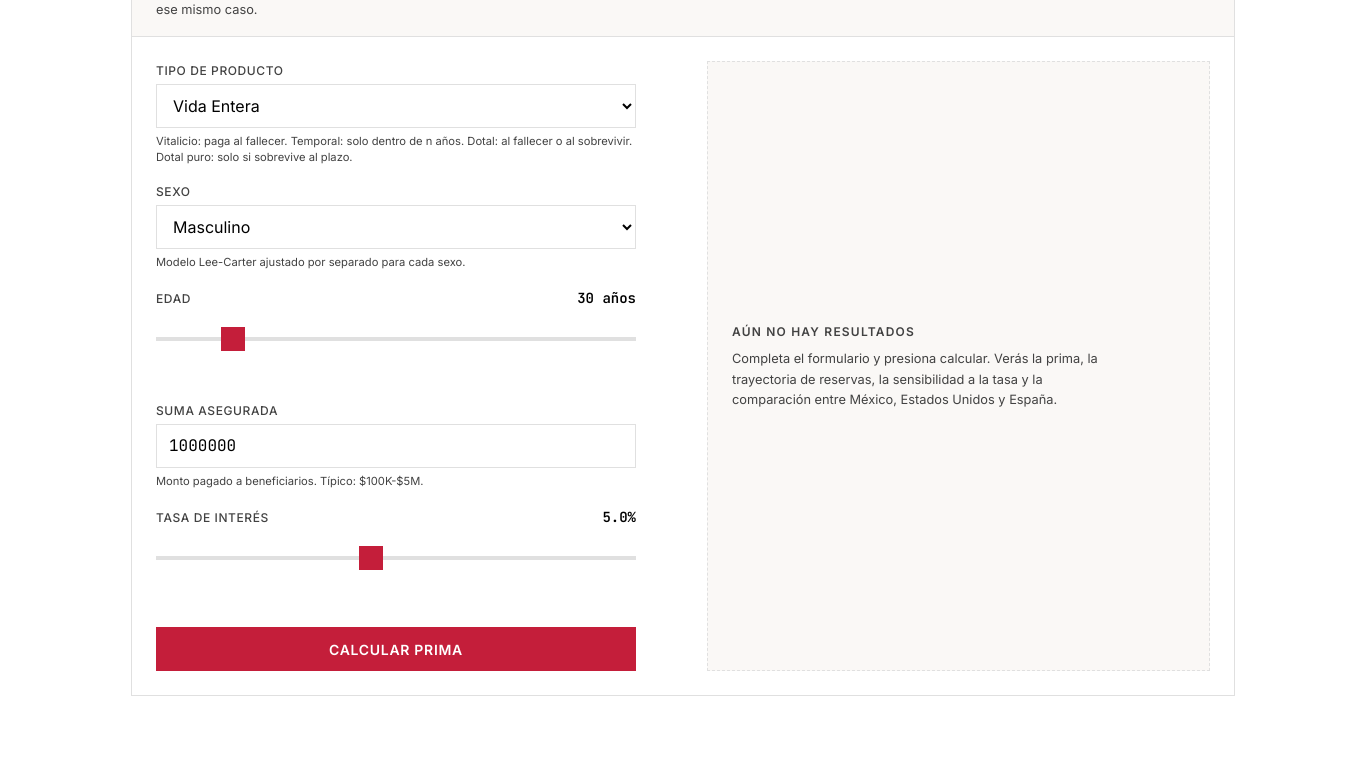
Test: Tarificacion › renders cross-country names in the active UI language, in es and en
(page scrolled)
Click the button "CALCULAR PRIMA" at (396, 650), box [156,628,636,672]
(page scrolled)
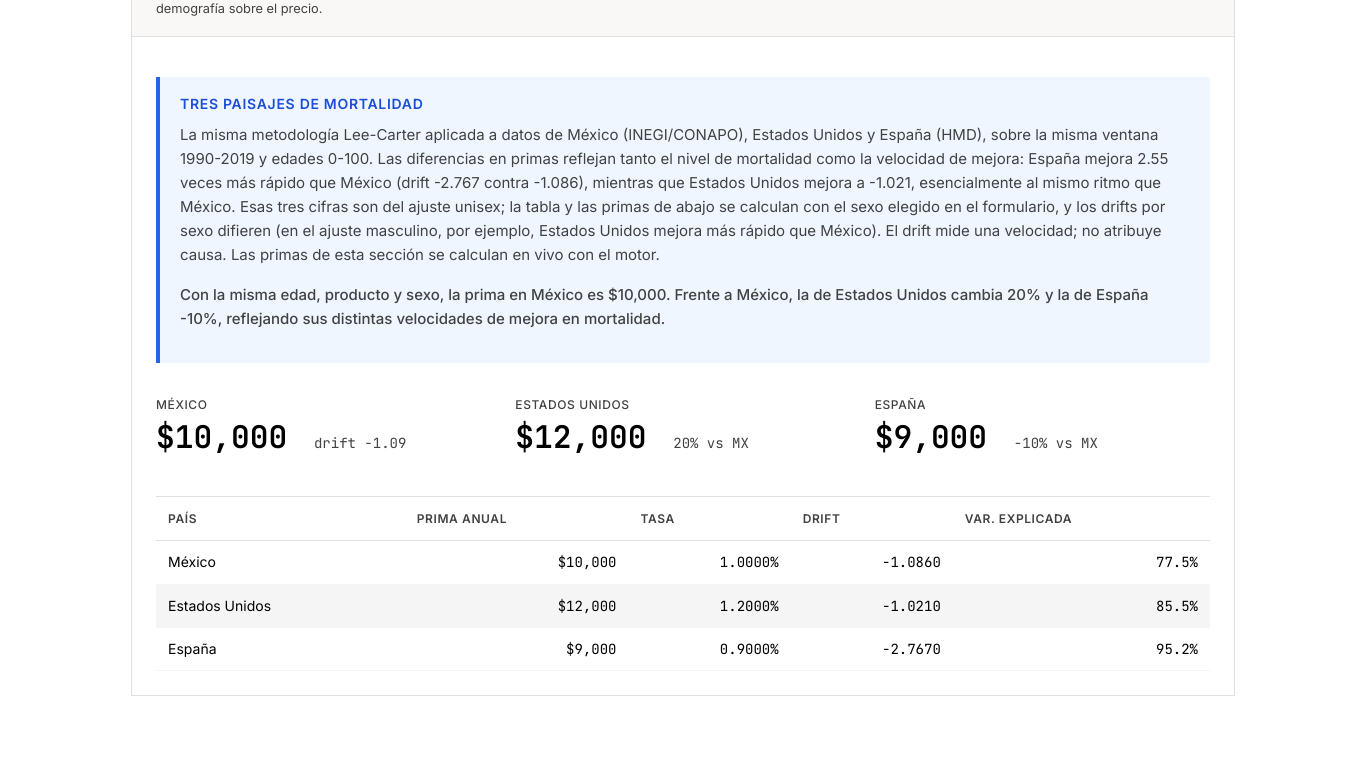
Expected: the text "Estados Unidos" is shown, [515,397,630,412]
Expected: the text "España" is shown, [875,397,926,412]
